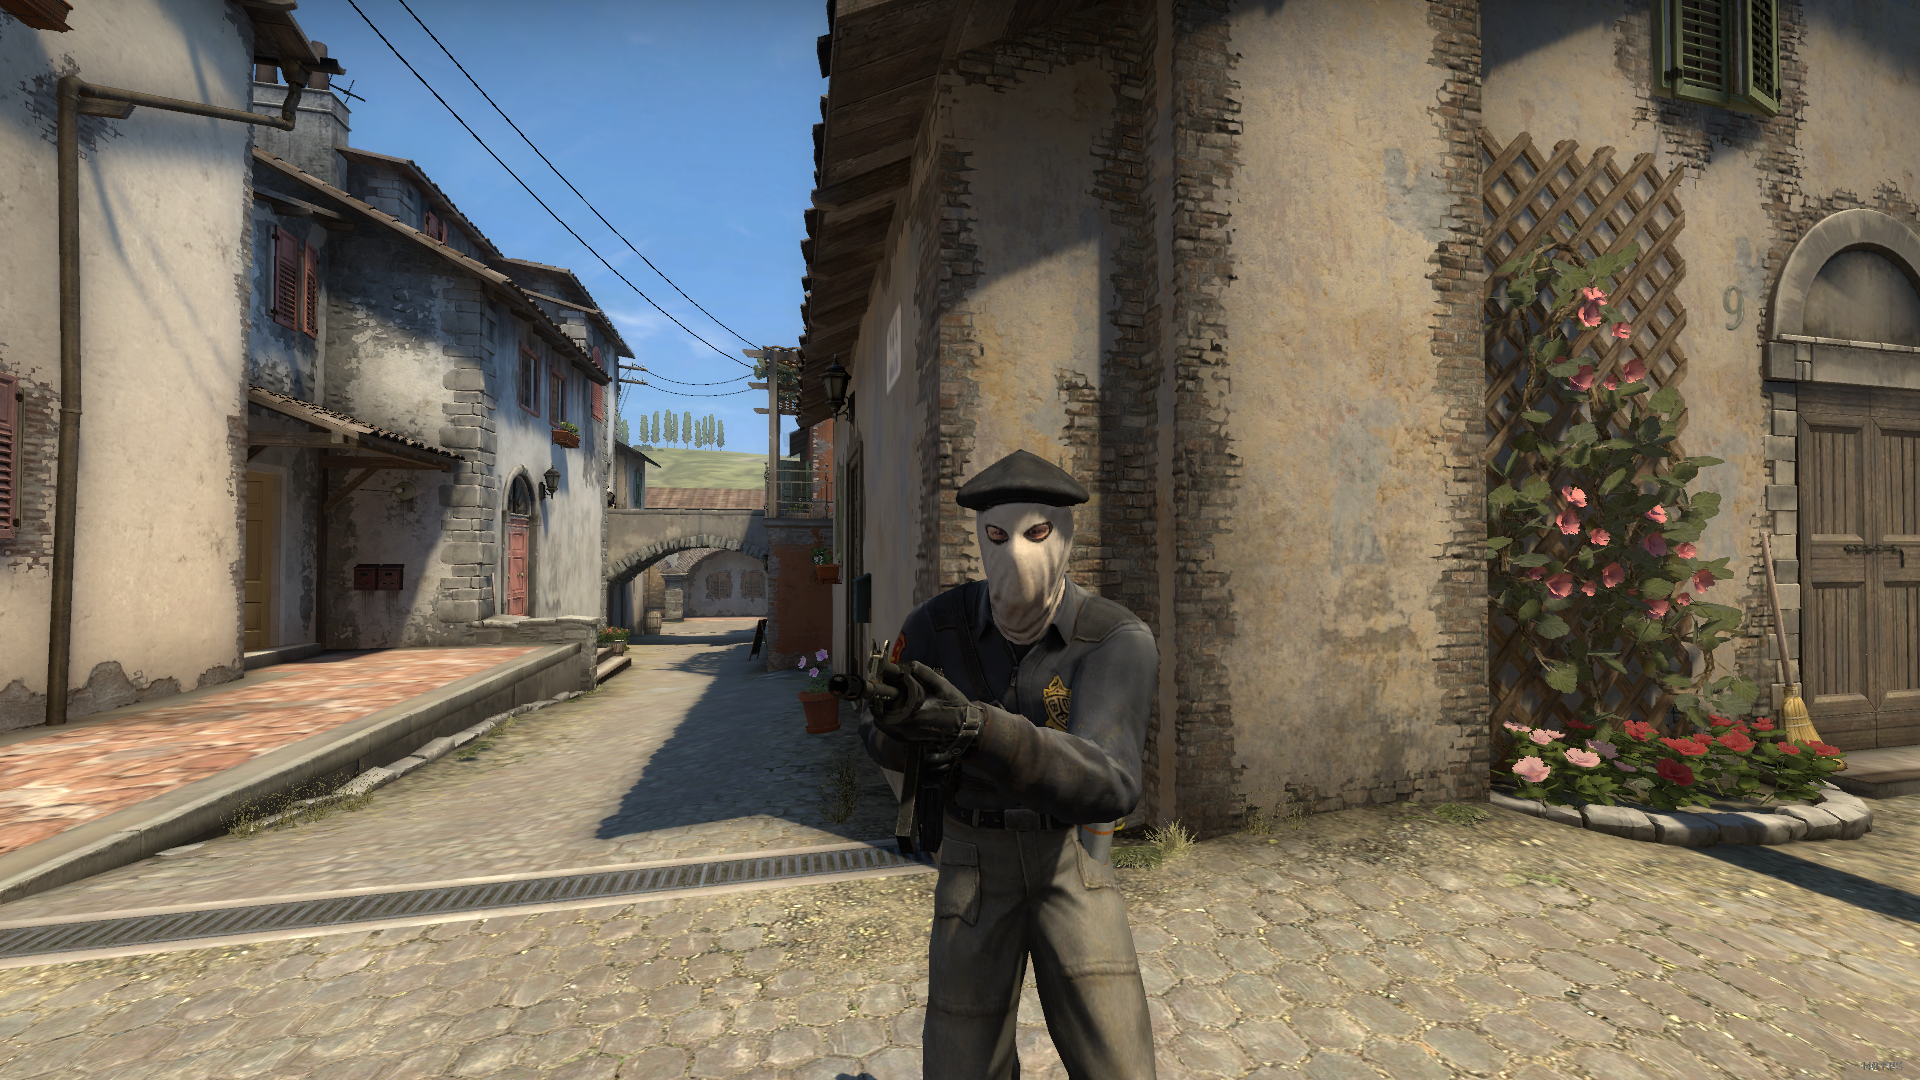t: (862, 447, 1163, 1080)
